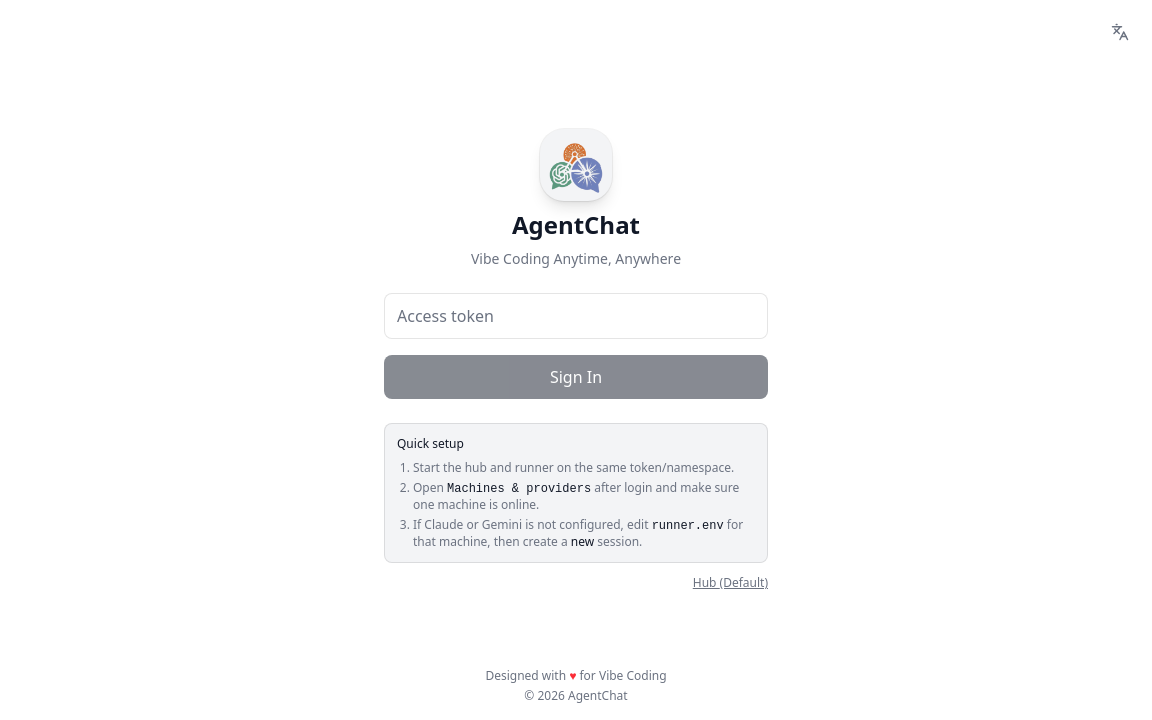
Test: LoginPrompt › does not clear first hub URL edit when hub URL required
In the password field with placeholder "Access token": (576, 316) [384,293,768,339], type "token"
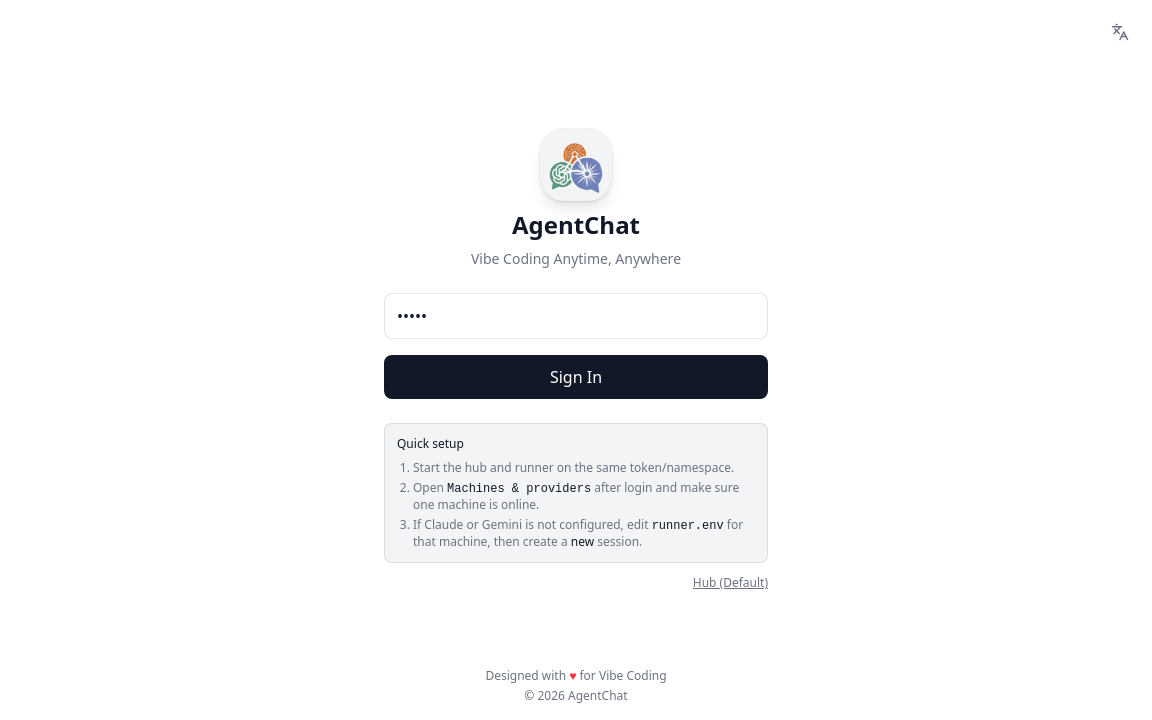
Click the button "Sign In": (576, 377) [384,355,768,399]
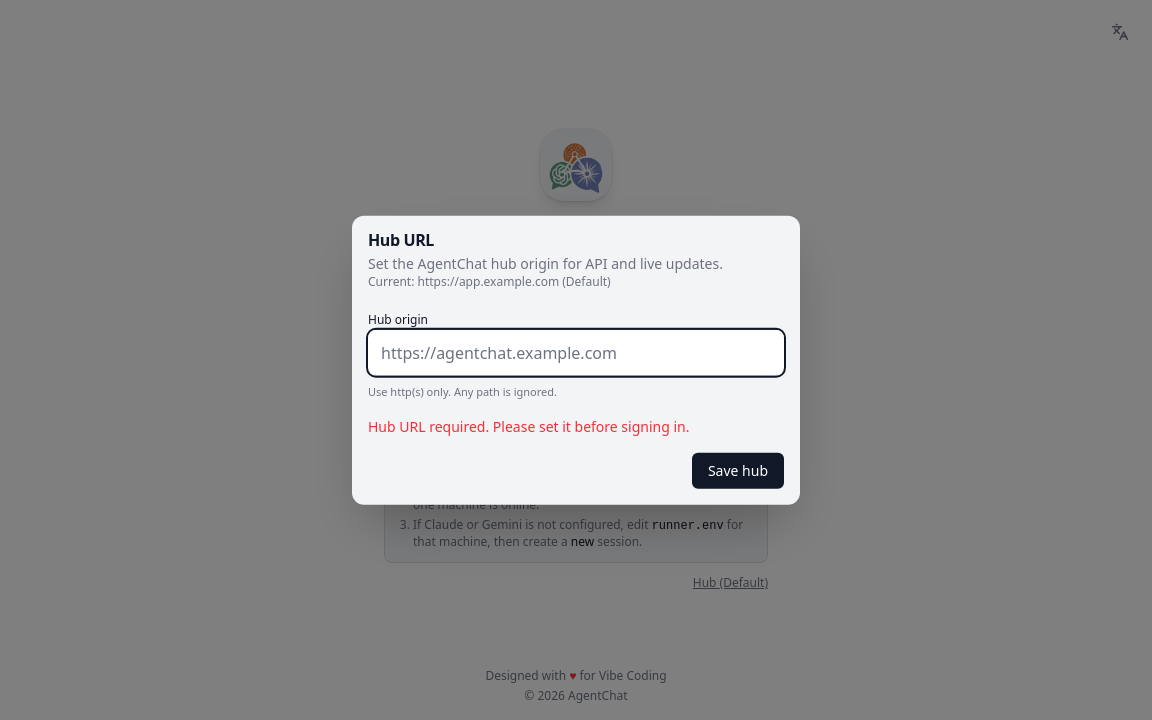
Check: the text "Hub URL required. Please set it before signing in." is shown, box [368,416,690,435]
In the field with placeholder "https://agentchat.example.com": (576, 353) [368,330,784,376], type "https://hub.example.com"
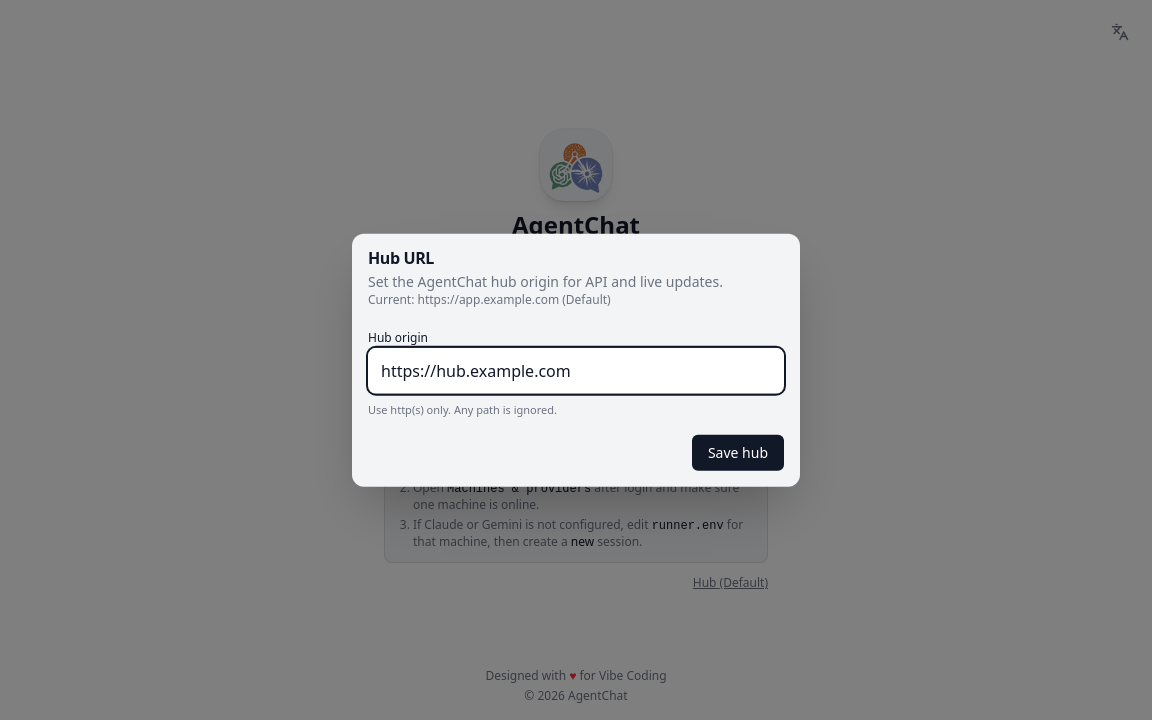
Check: the text "Hub URL required. Please set it before signing in." is gone
